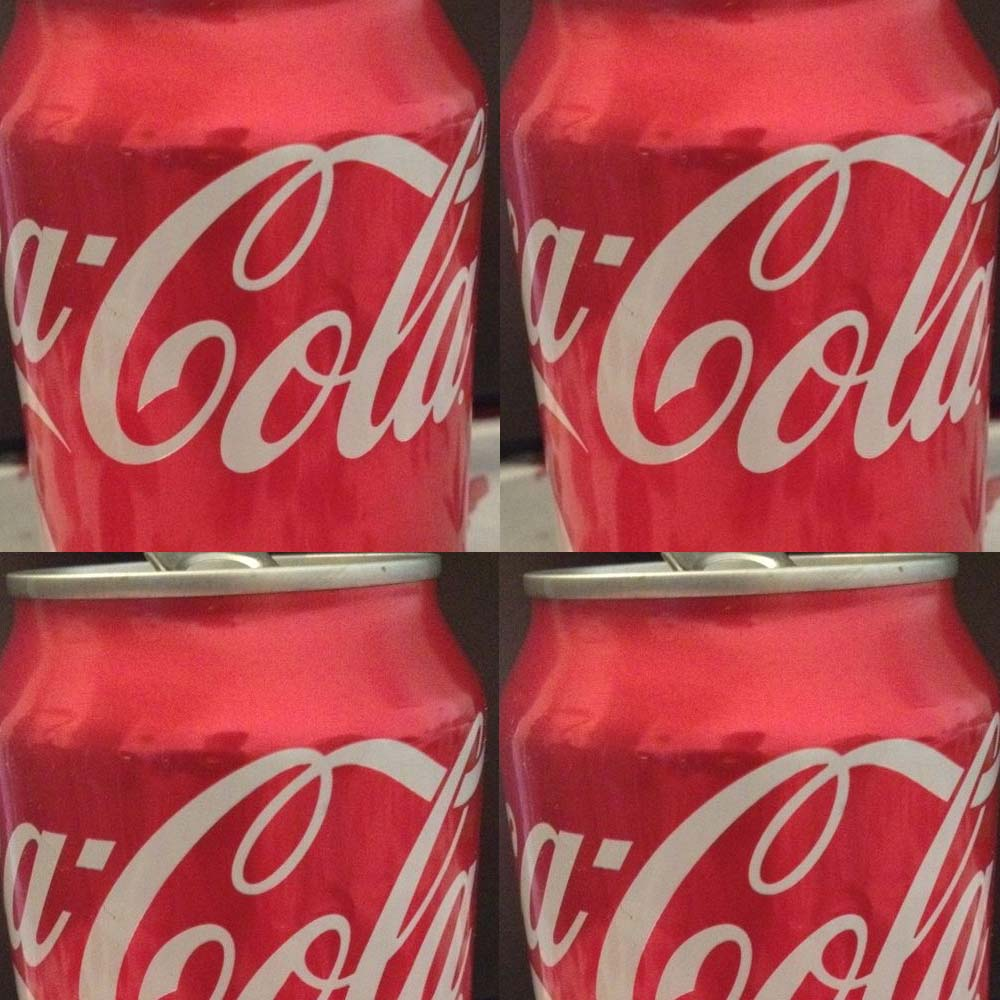Can: (1, 1, 507, 570), (520, 1, 995, 581), (504, 536, 1000, 978), (4, 553, 470, 1000)
